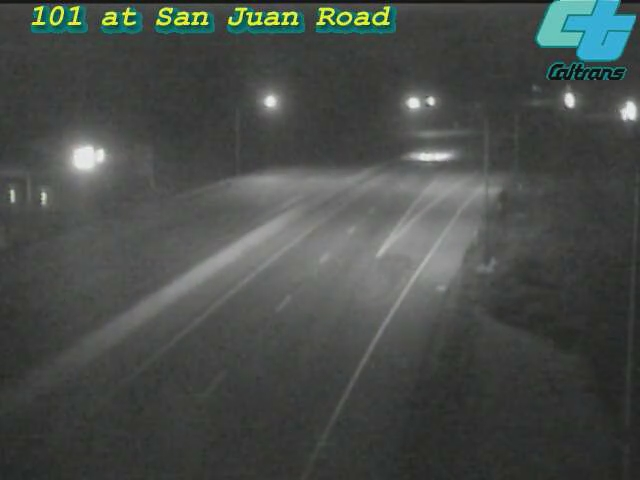vehicle: (406, 131, 456, 181), (597, 90, 640, 140), (605, 85, 640, 135)
